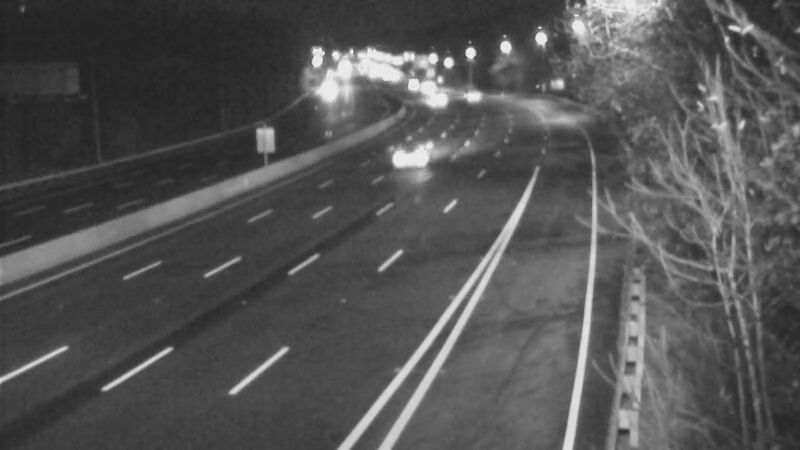vehicle: (362, 118, 442, 198), (444, 61, 494, 111), (400, 64, 450, 114), (411, 72, 461, 122), (301, 66, 351, 116)
